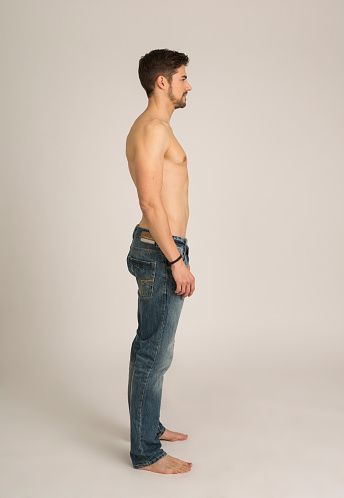em pe: (112, 38, 215, 467)
